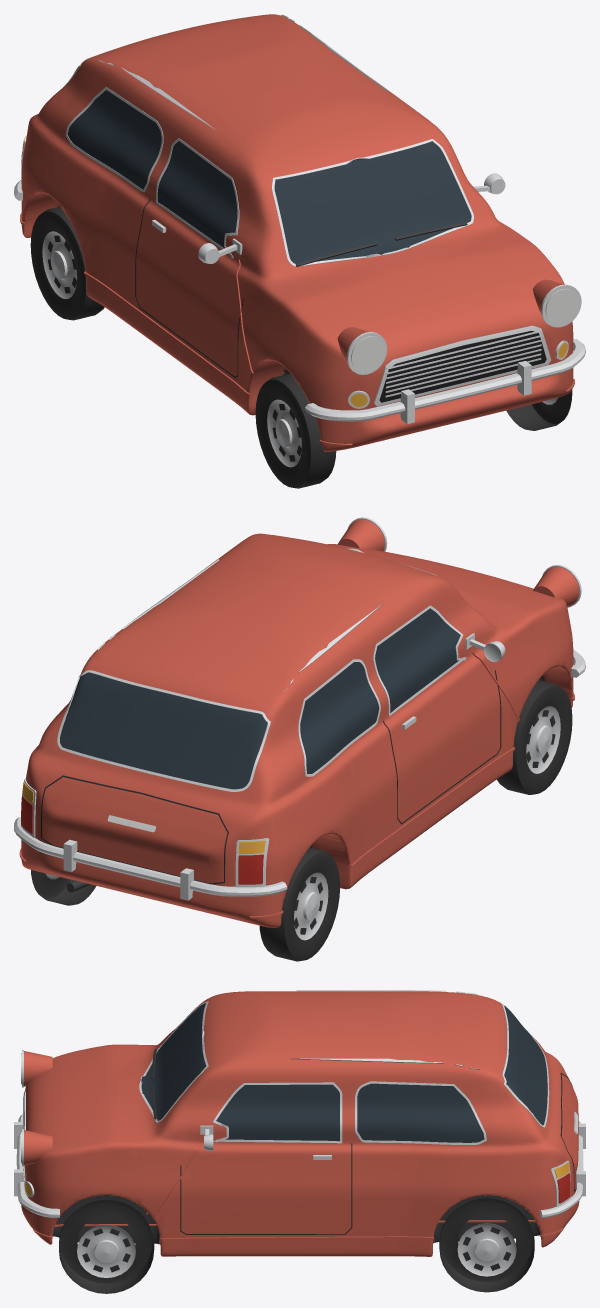
Rendered from mini.glb.
The picture shows the model from 3 angles, top to bottom: view 1: azimuth 30°, elevation 25°; view 2: azimuth 150°, elevation 25°; view 3: azimuth 270°, elevation 25°; orthographic projection. The views are drawn at different scales.
Parts seen in each view (by area): view 1: paint, glass, trim, wheel_fr, wheel_rr, headlights, wheel_fl; view 2: paint, glass, trim, wheel_rr, wheel_fr, wheel_rl, taillights; view 3: paint, glass, trim, wheel_rl, wheel_fl.
Boxes of the visible parts, <box> form: paint: <box>21,14,573,451</box>; glass: <box>67,90,471,263</box>; trim: <box>14,14,585,446</box>; wheel_fr: <box>255,373,336,488</box>; wheel_rr: <box>30,206,104,320</box>; headlights: <box>351,288,578,371</box>; wheel_fl: <box>506,390,572,430</box>; paint: <box>21,533,573,927</box>; glass: <box>60,608,460,789</box>; trim: <box>14,517,585,918</box>; wheel_rr: <box>259,847,340,961</box>; wheel_fr: <box>497,680,572,794</box>; wheel_rl: <box>31,870,96,905</box>; taillights: <box>21,796,263,884</box>; paint: <box>21,991,579,1256</box>; glass: <box>141,1003,547,1142</box>; trim: <box>14,990,585,1240</box>; wheel_rl: <box>439,1198,534,1292</box>; wheel_fl: <box>59,1200,154,1293</box>.
Size of the model in its own units: 1.56 by 1.34 by 3.06.
